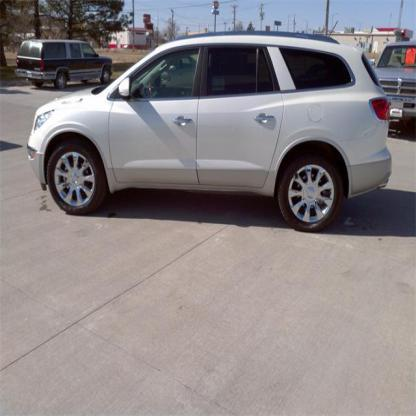Vehicle: (27, 30, 394, 233)
